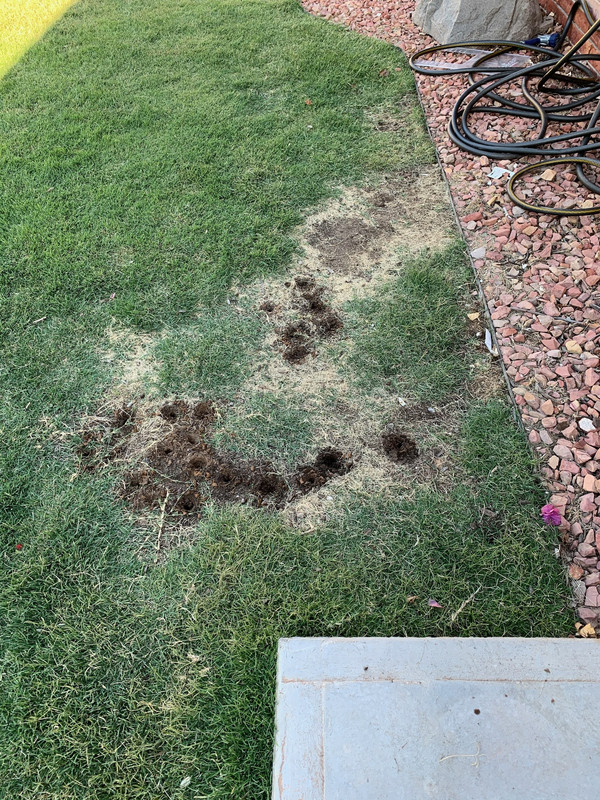grass: (2, 4, 272, 799), (277, 14, 469, 636)
rock: (474, 177, 599, 367), (517, 374, 599, 541)
